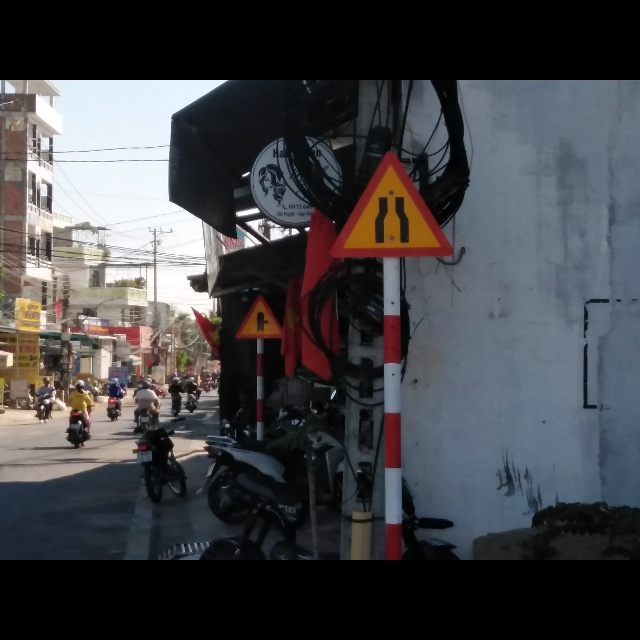Giao nhau với đường không ưu tiên: (236, 293, 287, 341)
Đường bị hẹp cả hai bên: (327, 146, 457, 260)
